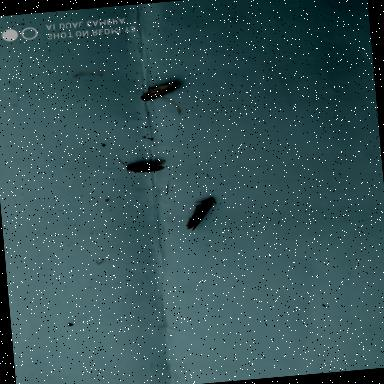pbw: (114, 150, 169, 178), (182, 195, 221, 233), (138, 80, 183, 104)
